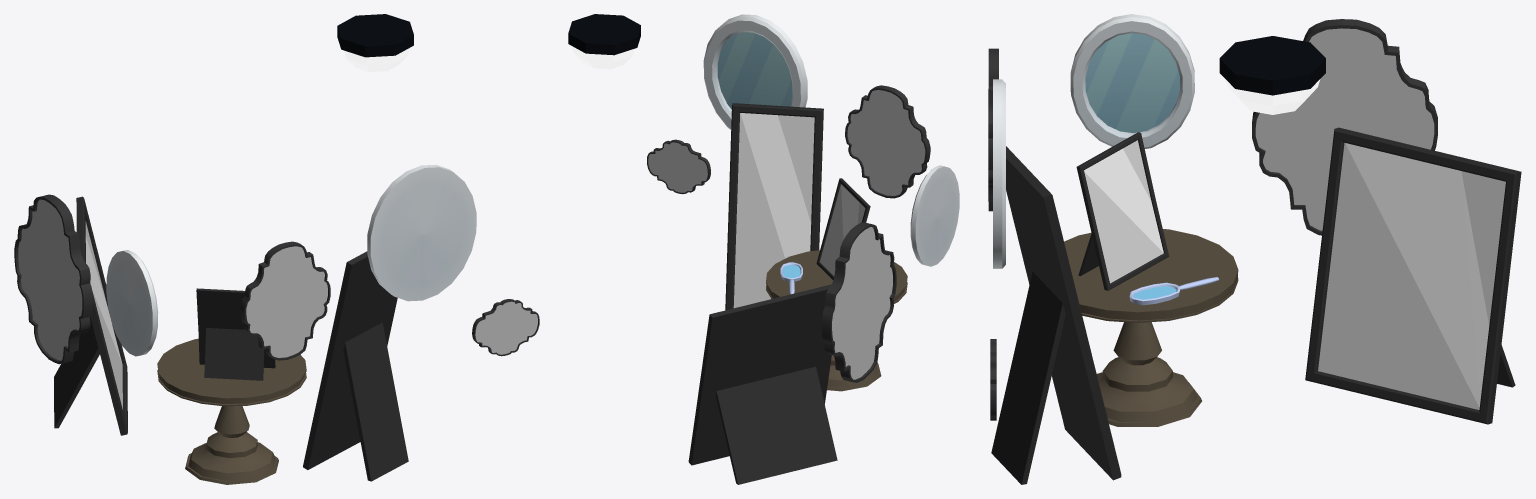
Rendered from room 5.glb.
3 renders of one model, left to right at view 1: azimuth 30°, elevation 25°; view 2: azimuth 150°, elevation 25°; view 3: azimuth 270°, elevation 25°, orthographic. The views are drawn at different scales.
Visible parts, largest first — view 1: Mirror.002, mirror.001, Table_RoundSmall, Line006.001, Line006, Mirror.003, Mirror.001, mirror, CeilingLamp5.001, Line006.002; view 2: Mirror.003, Mirror.002, Line006.001, mirror.001, Line006, mirror, CeilingLamp5.001, Table_RoundSmall, Line006.002, Mirror.001, tools_mirror.001; view 3: Mirror.003, Mirror.002, Line006.001, Table_RoundSmall, mirror, Mirror.001, CeilingLamp5.001, mirror.001, tools_mirror.001, Line006, Line006.002.
Boxes of the visible parts, x1,y1,x2,y2 form: Mirror.002: [303, 251, 408, 481]; mirror.001: [367, 164, 476, 301]; Table_RoundSmall: [157, 338, 306, 484]; Line006.001: [14, 194, 93, 364]; Line006: [240, 241, 330, 360]; Mirror.003: [54, 196, 127, 435]; Mirror.001: [196, 288, 275, 380]; mirror: [106, 250, 158, 356]; CeilingLamp5.001: [337, 14, 413, 72]; Line006.002: [472, 299, 539, 356]; Mirror.003: [688, 284, 837, 484]; Mirror.002: [725, 103, 823, 310]; Line006.001: [821, 222, 896, 382]; mirror.001: [703, 14, 807, 129]; Line006: [845, 85, 930, 198]; mirror: [910, 165, 959, 266]; CeilingLamp5.001: [568, 14, 640, 69]; Table_RoundSmall: [766, 250, 907, 391]; Line006.002: [647, 139, 710, 194]; Mirror.001: [816, 178, 870, 279]; tools_mirror.001: [780, 262, 802, 294]; Mirror.003: [1305, 127, 1521, 424]; Mirror.002: [991, 146, 1121, 484]; Line006.001: [1252, 19, 1437, 235]; Table_RoundSmall: [1064, 229, 1238, 426]; mirror: [1070, 14, 1194, 148]; Mirror.001: [1076, 132, 1169, 290]; CeilingLamp5.001: [1219, 36, 1325, 114]; mirror.001: [993, 79, 1005, 268]; tools_mirror.001: [1129, 277, 1219, 305]; Line006: [988, 48, 998, 211]; Line006.002: [990, 339, 996, 420].
Bounding box in the file's own units: 1.12 × 1.07 × 1.08.
8 materials, 3 textured.
